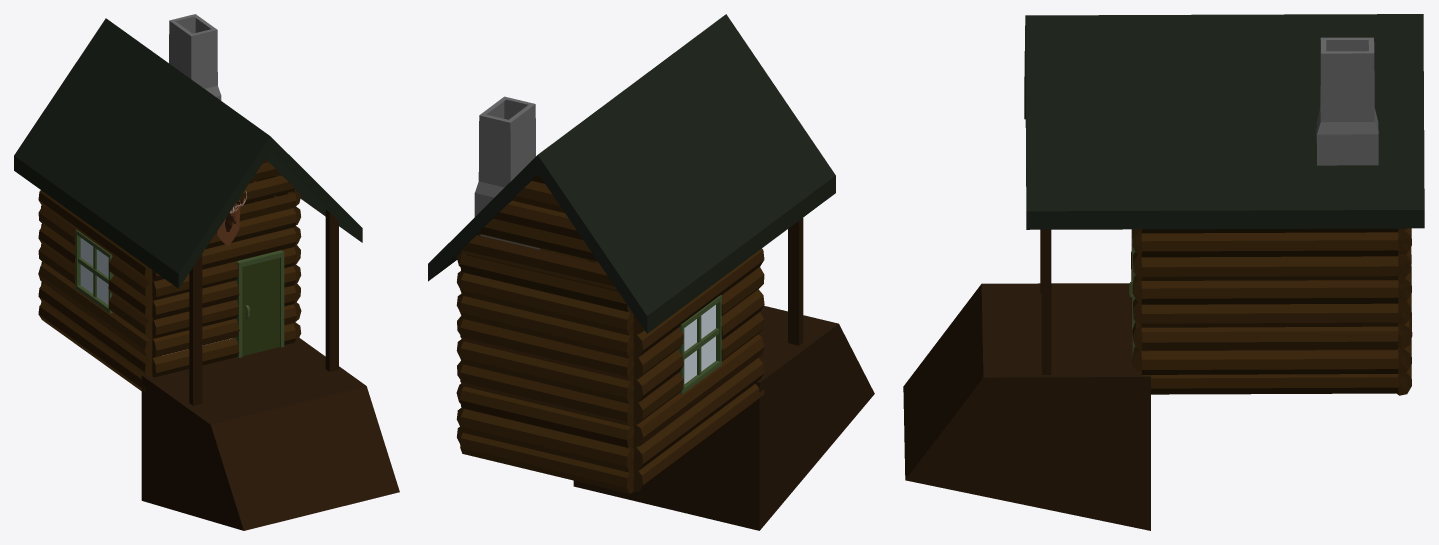
The model's file is Casa01.gltf.
3 renders of one model, left to right at view 1: azimuth 30°, elevation 25°; view 2: azimuth 150°, elevation 25°; view 3: azimuth 270°, elevation 25°, orthographic. The views are drawn at different scales.
Parts seen in each view (by area): view 1: Cabana Verde 02.003; view 2: Cabana Verde 02.003; view 3: Cabana Verde 02.003.
Part boxes in pixels (left/top/right/bottom): Cabana Verde 02.003: left=14, top=14, right=399, bottom=530; Cabana Verde 02.003: left=428, top=14, right=874, bottom=530; Cabana Verde 02.003: left=903, top=14, right=1424, bottom=530.
Bounding box in the file's own units: 1.34 × 2.62 × 2.62.
